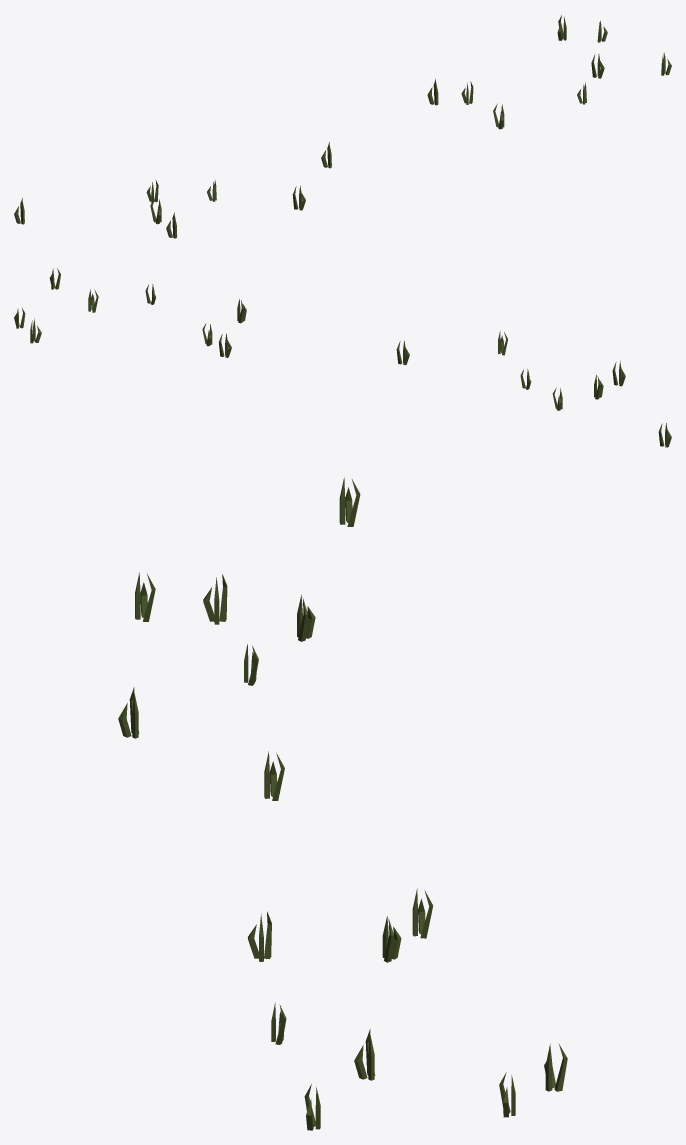
Rendered from Grasses21.gltf.
3 renders of one model, top to bottom at view 1: azimuth 30°, elevation 25°; view 2: azimuth 150°, elevation 25°; view 3: azimuth 270°, elevation 25°, orthographic. The views are drawn at different scales.
Bounding box in the file's own units: 15.08 × 0.5435 × 4.65.
1 material, 1 textured.
